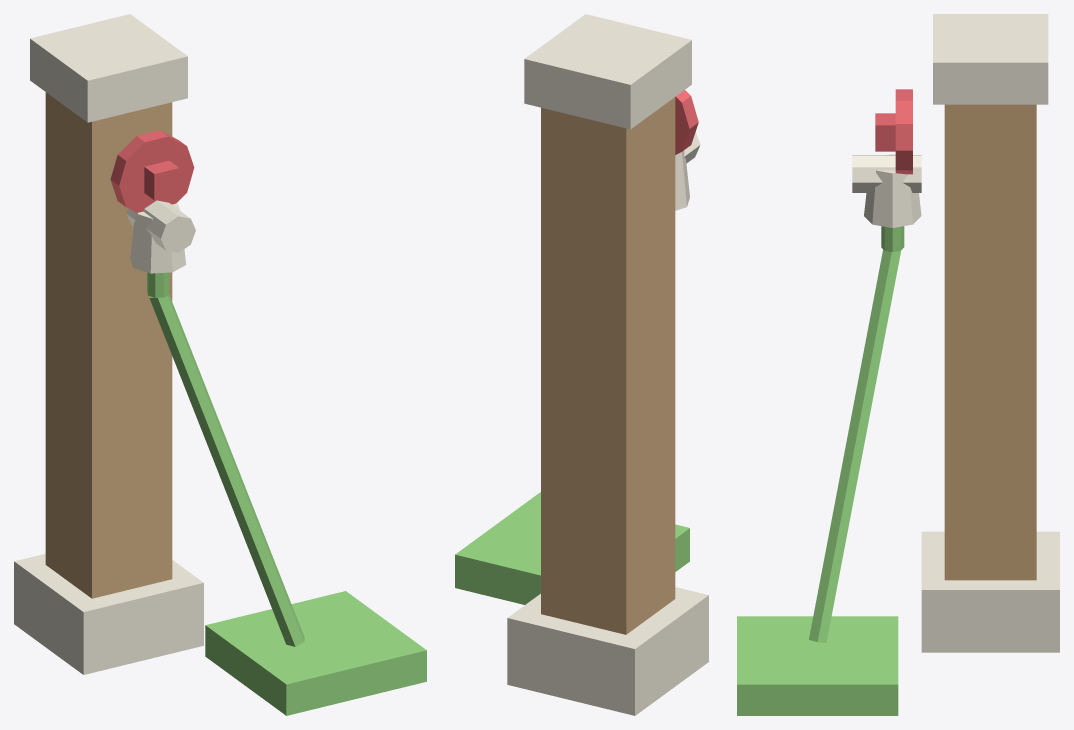
File: lawn-mowing-simulator-kit-garden-tap-on-a-post-845e8095__27415.glb
The picture shows the model from 3 angles, left to right: view 1: azimuth 30°, elevation 25°; view 2: azimuth 150°, elevation 25°; view 3: azimuth 270°, elevation 25°; orthographic projection. The views are drawn at different scales.
Parts seen in each view (by area): view 1: garden-tap-on-a-post; view 2: garden-tap-on-a-post; view 3: garden-tap-on-a-post.
Part boxes in pixels (x1=…): garden-tap-on-a-post: x1=14, y1=14, x2=426, y2=715; garden-tap-on-a-post: x1=455, y1=14, x2=708, y2=715; garden-tap-on-a-post: x1=737, y1=14, x2=1059, y2=715.
Bounding box in the file's own units: 0.5 × 1.12 × 0.56.
